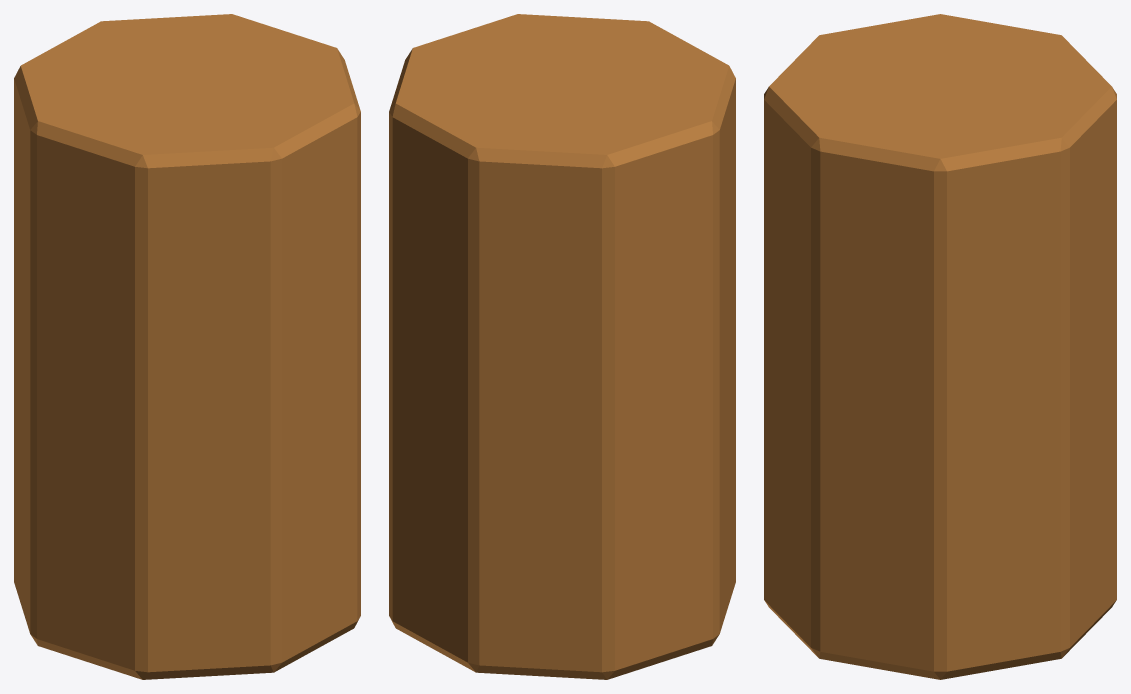
The model's file is pillar.glb.
3 views of the same model, side by side, from view 1: azimuth 30°, elevation 25°; view 2: azimuth 150°, elevation 25°; view 3: azimuth 270°, elevation 25° (orthographic).
Parts seen in each view (by area): view 1: Cylinder; view 2: Cylinder; view 3: Cylinder.
Boxes of the visible parts, x1=… form: Cylinder: x1=14, y1=14, x2=360, y2=679; Cylinder: x1=389, y1=14, x2=735, y2=679; Cylinder: x1=764, y1=14, x2=1116, y2=679.
Size of the model in its own units: 1.97 by 3.21 by 1.97.
